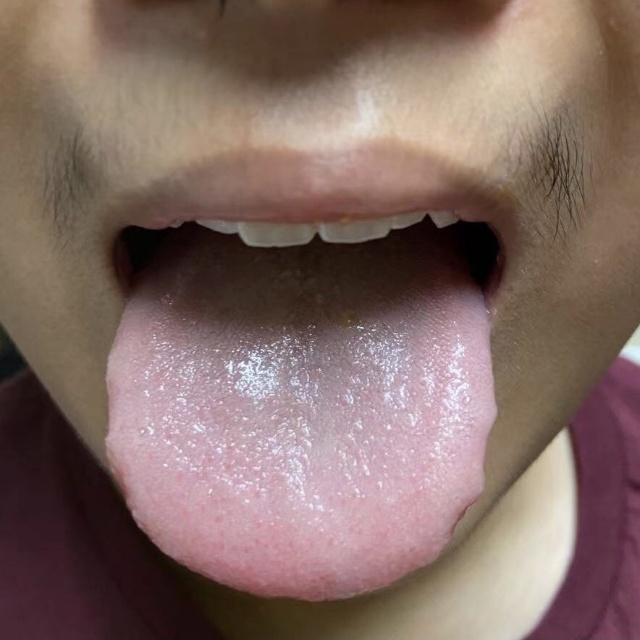baitaishe: (104, 275, 499, 604)
chihenshe: (442, 408, 499, 549), (104, 379, 137, 518)
